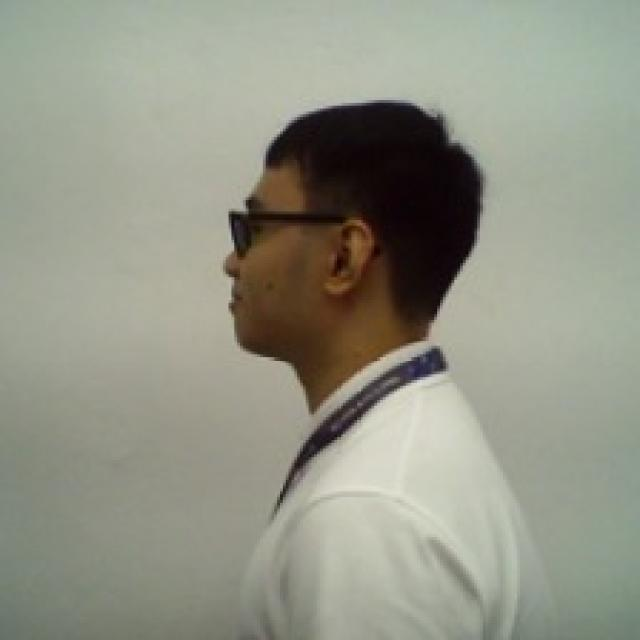no_gloves: (260, 93, 490, 303)
no_hairnet: (188, 204, 378, 357)
